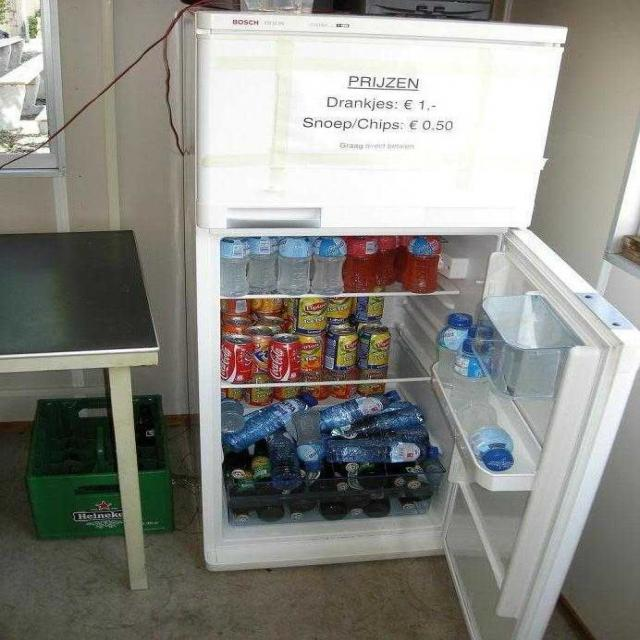refrigerator: (196, 11, 544, 582)
